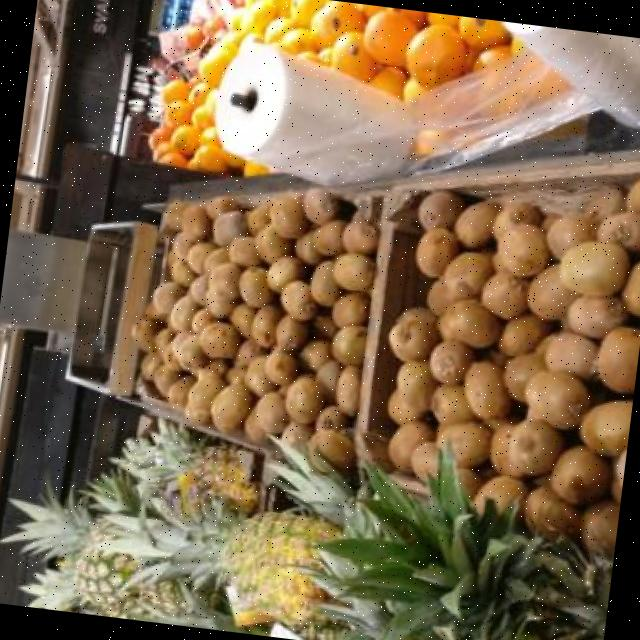kiwi: (559, 240, 629, 294), (525, 370, 590, 427), (550, 444, 611, 504), (508, 417, 564, 474), (438, 298, 501, 347), (523, 484, 581, 537), (579, 400, 632, 456), (527, 262, 577, 319), (464, 359, 512, 418), (598, 325, 640, 391), (388, 306, 439, 359), (566, 294, 627, 338), (499, 224, 550, 275), (543, 331, 597, 378), (436, 421, 491, 467), (444, 251, 493, 299), (388, 420, 434, 469), (498, 313, 552, 354), (481, 271, 529, 317), (473, 474, 528, 514), (546, 214, 596, 258), (396, 359, 437, 412), (581, 501, 619, 557), (453, 199, 500, 244), (210, 382, 253, 430), (417, 227, 459, 276), (285, 373, 325, 423), (205, 261, 241, 316), (332, 251, 374, 298), (503, 351, 544, 399), (431, 339, 474, 384), (188, 371, 225, 422), (491, 422, 524, 477), (492, 202, 541, 239), (430, 383, 475, 423), (311, 428, 355, 468), (419, 190, 465, 228), (269, 193, 308, 237), (597, 211, 640, 250), (199, 320, 240, 358), (266, 254, 308, 291), (255, 222, 293, 262), (584, 185, 625, 221), (309, 260, 341, 305), (255, 390, 289, 432), (281, 280, 317, 319), (243, 355, 276, 396), (336, 364, 362, 416), (250, 303, 282, 345), (331, 292, 369, 326), (264, 347, 298, 385), (239, 266, 272, 305), (342, 217, 378, 252), (331, 327, 366, 363), (175, 333, 209, 370), (388, 389, 423, 424), (303, 188, 339, 222), (277, 313, 309, 350), (152, 281, 185, 314), (181, 204, 211, 240), (312, 219, 343, 253), (130, 317, 161, 351), (410, 441, 439, 477), (170, 294, 199, 329), (622, 261, 640, 316), (426, 277, 452, 315), (294, 230, 322, 265), (204, 194, 243, 218), (300, 340, 331, 370), (153, 363, 182, 395), (316, 359, 341, 396), (213, 211, 247, 238), (314, 404, 350, 429), (230, 235, 260, 265), (169, 374, 195, 407), (230, 302, 255, 336), (236, 339, 267, 365), (185, 245, 215, 271), (204, 246, 229, 274), (248, 203, 269, 234), (171, 259, 195, 286), (163, 203, 188, 228), (172, 231, 193, 259), (141, 353, 162, 380), (190, 274, 208, 304), (192, 308, 214, 332), (314, 315, 336, 337), (157, 326, 174, 350), (629, 182, 640, 213), (169, 250, 177, 265)
